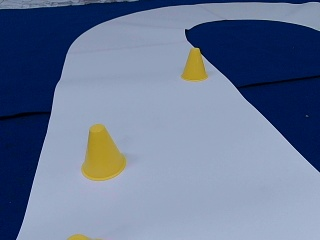cone: (81, 125, 127, 180), (181, 48, 206, 80)
